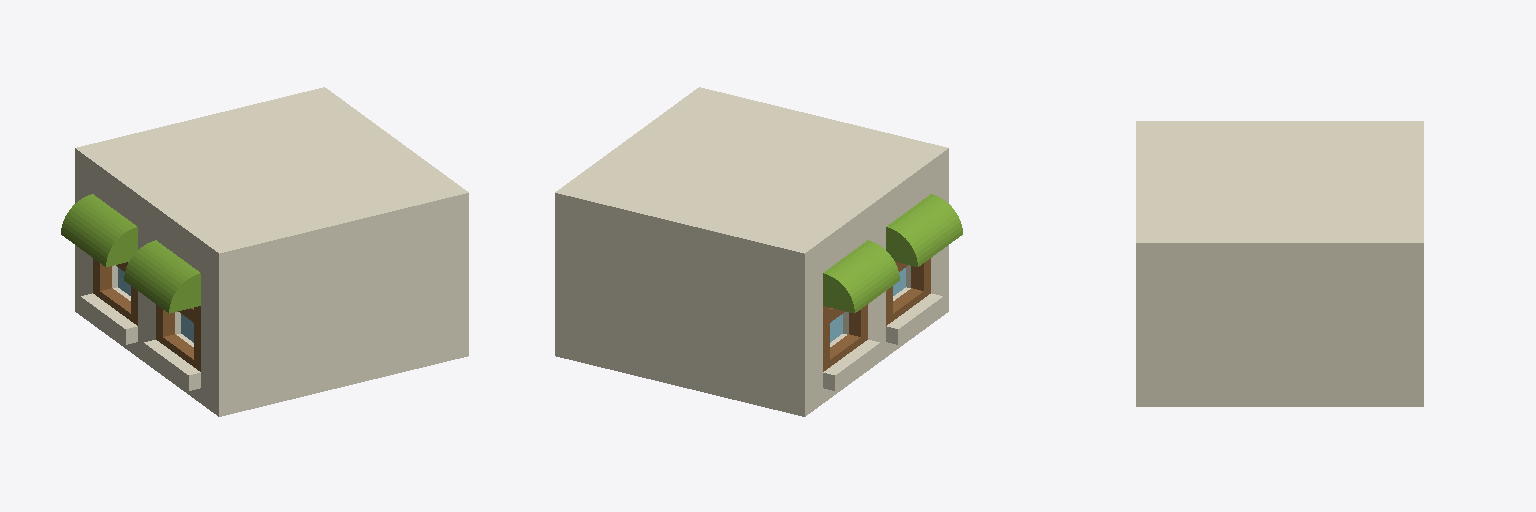
File: modularBuildings_033.obj
3 views of the same model, side by side, from view 1: azimuth 30°, elevation 25°; view 2: azimuth 150°, elevation 25°; view 3: azimuth 270°, elevation 25° (orthographic).
Visible parts, largest first — view 1: Mesh1_Group1_Model.001, Mesh1_Group1_Model.002, Mesh1_Group1_Model.000_Mesh1_Group1_Model.003; view 2: Mesh1_Group1_Model.001, Mesh1_Group1_Model.000_Mesh1_Group1_Model.003, Mesh1_Group1_Model.002; view 3: Mesh1_Group1_Model.001.
Boxes of the visible parts, x1,y1,x2,y2 form: Mesh1_Group1_Model.001: [61, 87, 468, 416]; Mesh1_Group1_Model.002: [156, 304, 200, 371]; Mesh1_Group1_Model.000_Mesh1_Group1_Model.003: [93, 258, 137, 325]; Mesh1_Group1_Model.001: [555, 87, 962, 416]; Mesh1_Group1_Model.000_Mesh1_Group1_Model.003: [823, 304, 867, 371]; Mesh1_Group1_Model.002: [886, 258, 930, 325]; Mesh1_Group1_Model.001: [1136, 121, 1423, 406].
Size of the model in its own units: 1.13 by 0.625 by 1.